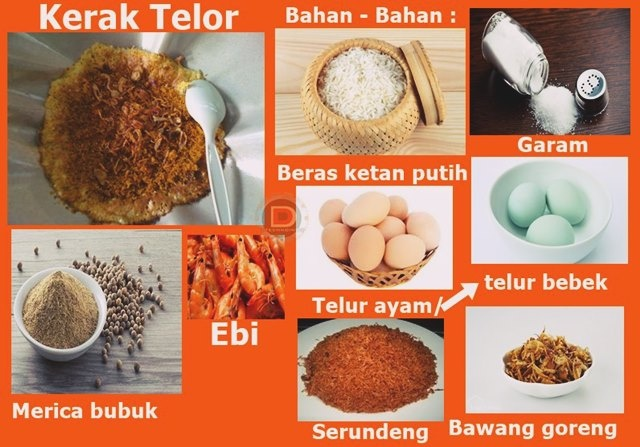kerak_telor: (41, 48, 184, 224)
